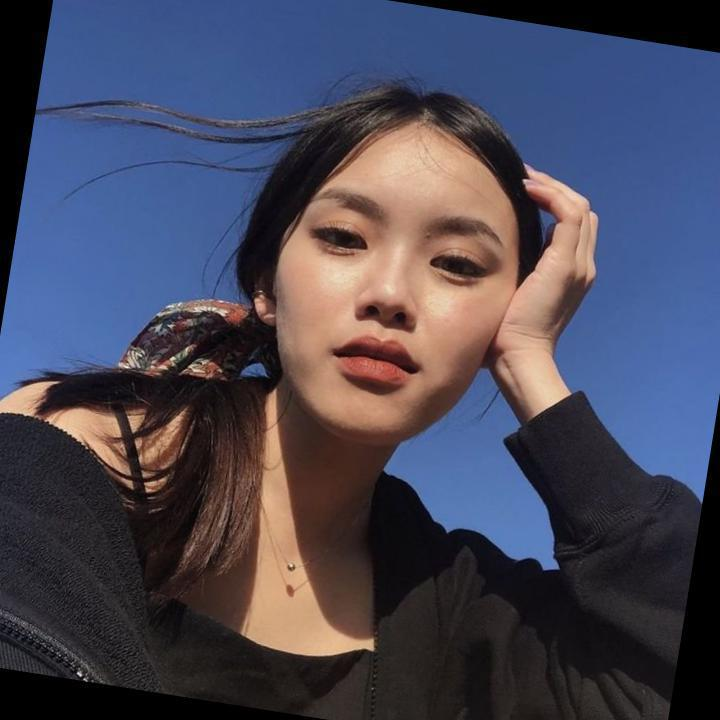Sober: (294, 154, 499, 414)
